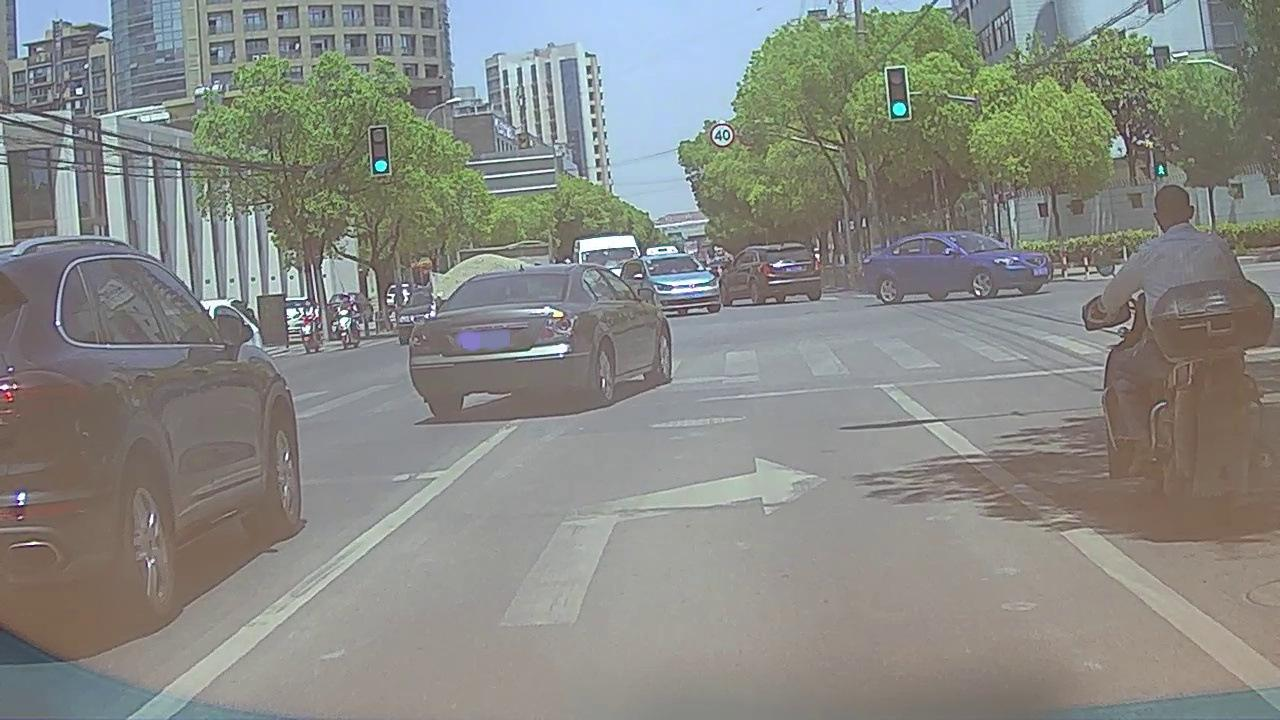traffic_light: (886, 66, 912, 118), (371, 126, 391, 176)
